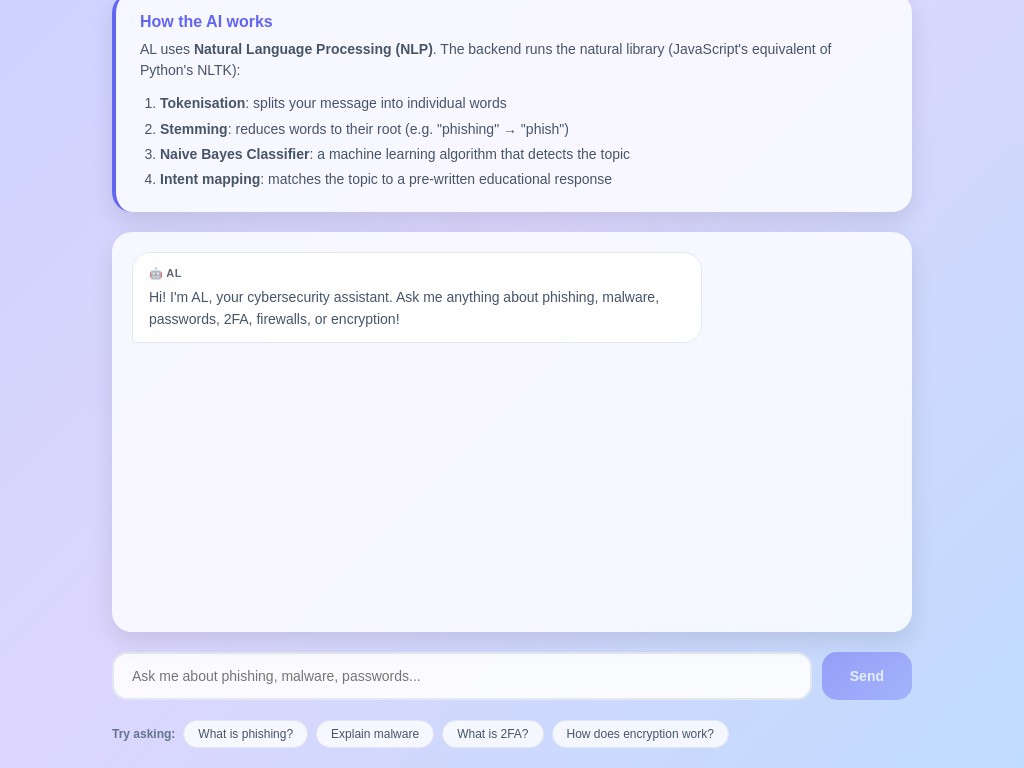
Test case: AI Chatbot Assistant (AL) › shows the user's message in the chat and clears the input after Send
(page scrolled)
Type "Tell me about network security" into the field with placeholder "Ask me about phishing, malware, passwords...".
click(462, 676); type("Tell me about network security")  # box x1=112 y1=652 x2=812 y2=700
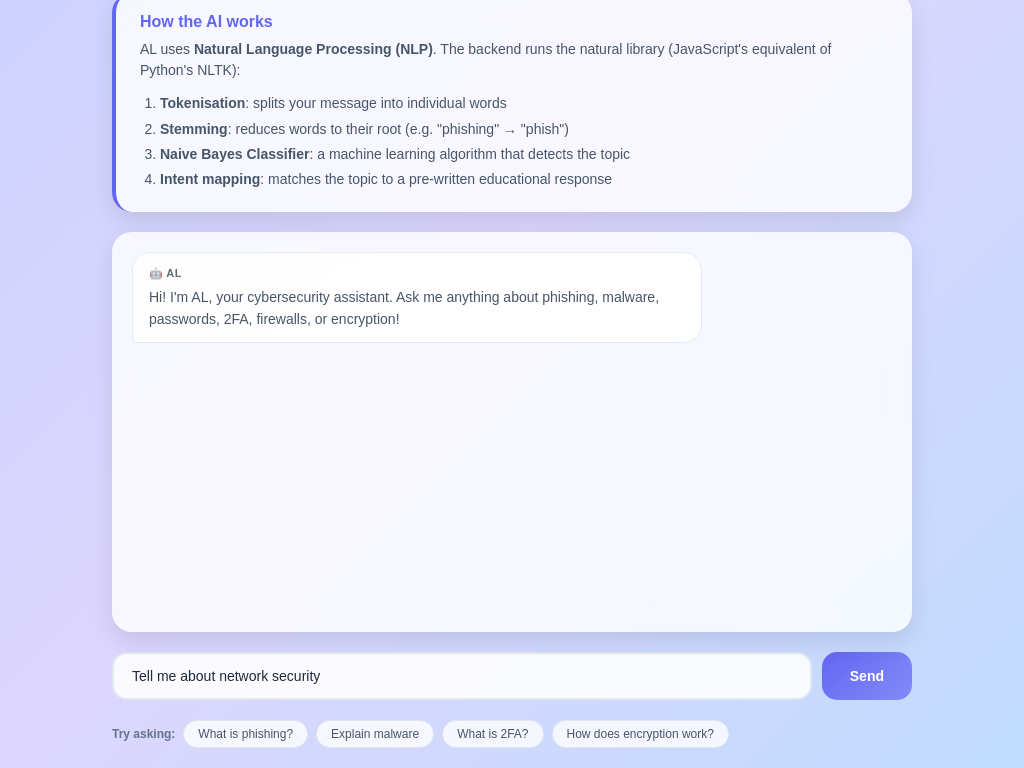
Click the button "Send".
click(867, 676)  # box x1=822 y1=652 x2=912 y2=700
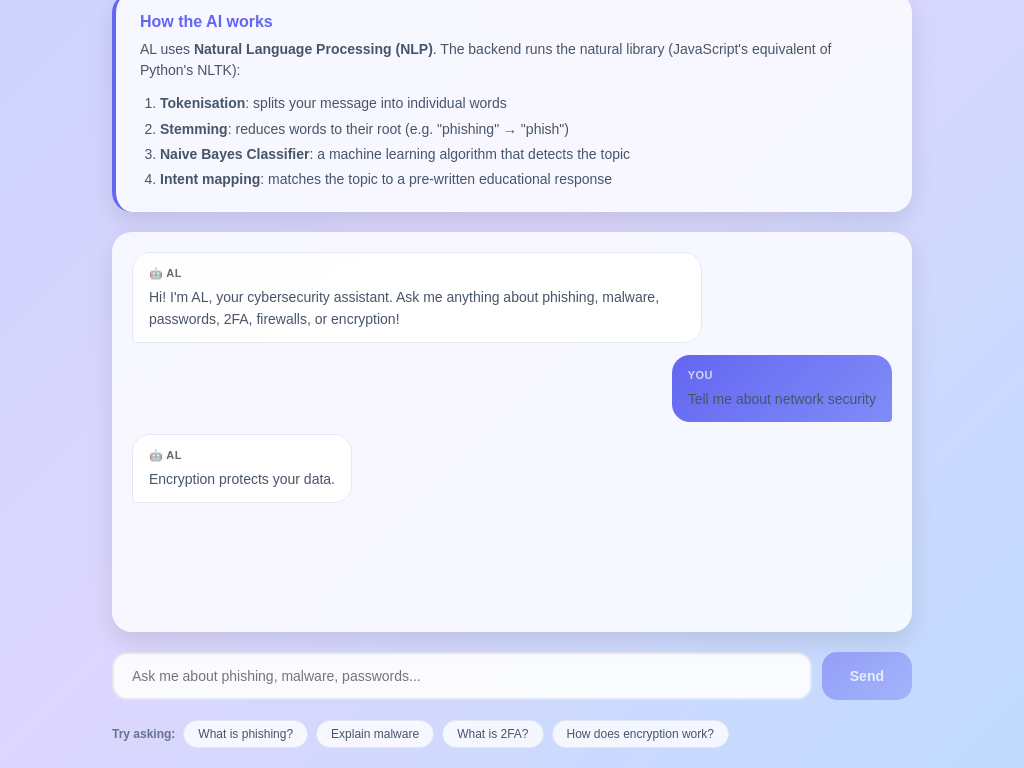
Result: the text "Tell me about network security" is shown at x1=688 y1=388 x2=876 y2=410
Result: the field with placeholder "Ask me about phishing, malware, passwords..." is empty at x1=112 y1=652 x2=812 y2=700
